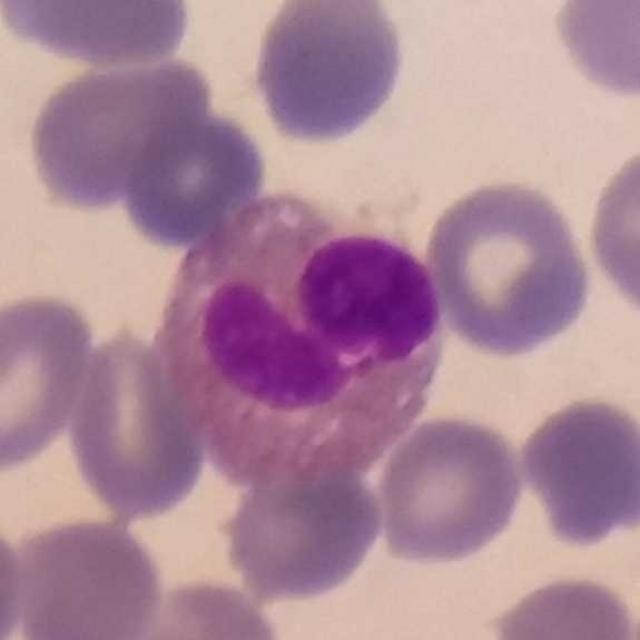Eosinophil: (150, 180, 450, 498)
RBC: (420, 174, 598, 360), (62, 321, 215, 523), (23, 53, 212, 216), (216, 454, 387, 607), (370, 409, 528, 570), (247, 0, 412, 149), (115, 105, 272, 252), (6, 512, 168, 640), (514, 392, 640, 552), (0, 287, 101, 478), (0, 0, 199, 71), (109, 572, 289, 640), (582, 137, 640, 327), (483, 570, 639, 640), (547, 0, 640, 104), (0, 503, 29, 640)
